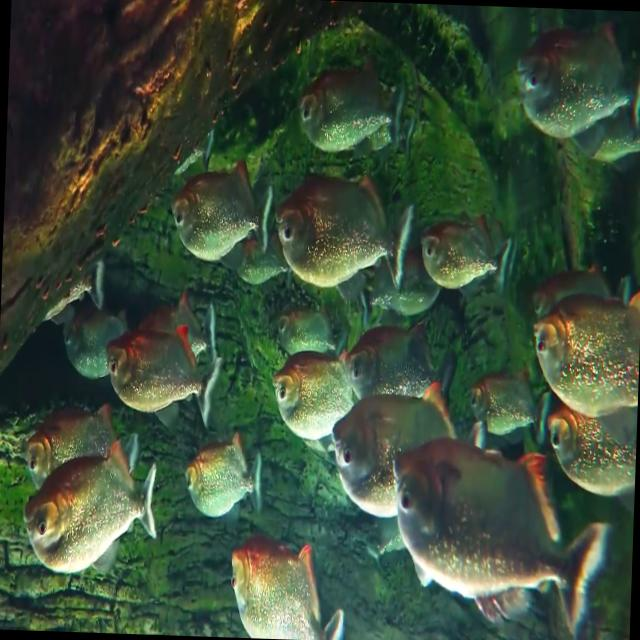fish: (384, 440, 618, 632), (18, 438, 166, 586), (274, 169, 428, 301), (510, 20, 640, 147), (219, 530, 351, 640), (102, 320, 238, 426), (531, 283, 640, 415), (174, 146, 284, 272), (342, 311, 466, 421), (292, 52, 414, 158), (19, 403, 135, 503), (266, 343, 361, 453), (322, 398, 412, 512), (178, 426, 274, 532), (416, 210, 518, 300), (540, 404, 637, 492), (463, 356, 550, 451), (265, 287, 350, 380), (55, 293, 127, 377)
